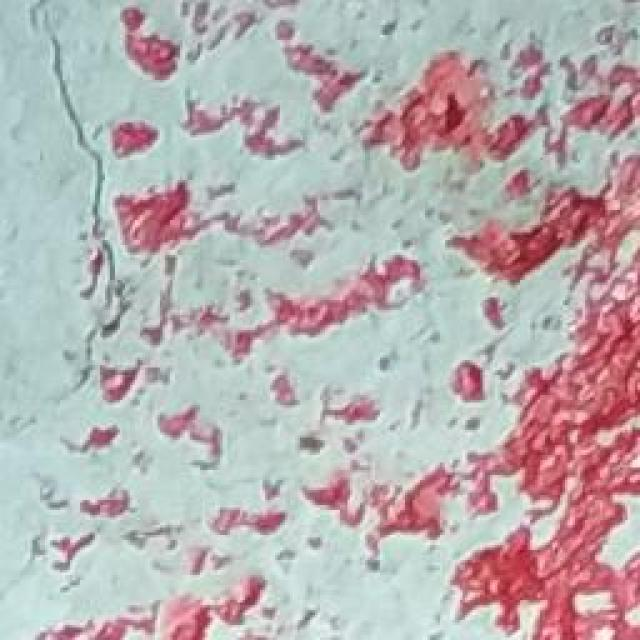Longitudinal: (25, 11, 143, 405)
